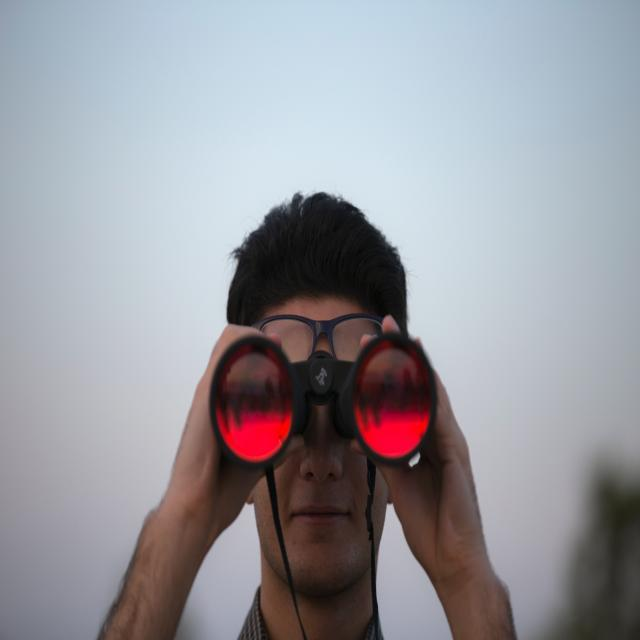Binocular: (202, 318, 446, 469)
